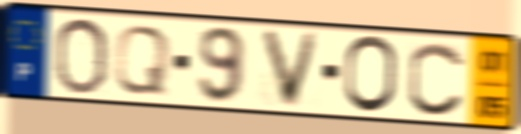9: (197, 25, 248, 106)
C: (405, 39, 468, 119)
O: (341, 32, 400, 117), (51, 15, 111, 97)
Q: (111, 23, 174, 97)
V: (257, 27, 324, 112)
